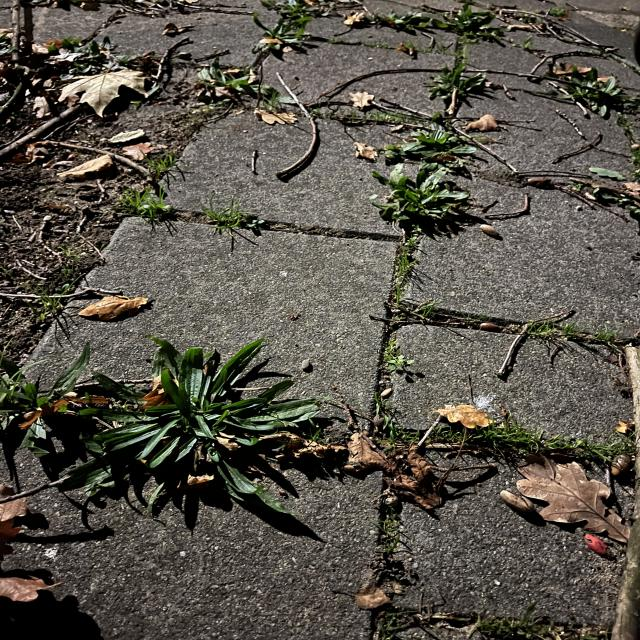leaves: (519, 453, 638, 543)
pavement: (91, 117, 388, 407)
weed: (69, 339, 325, 517), (370, 113, 475, 231), (468, 422, 627, 463), (376, 5, 506, 46)
weedling: (386, 340, 415, 369)
